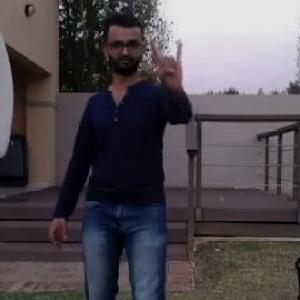takeoff-hand: (148, 33, 190, 89)
